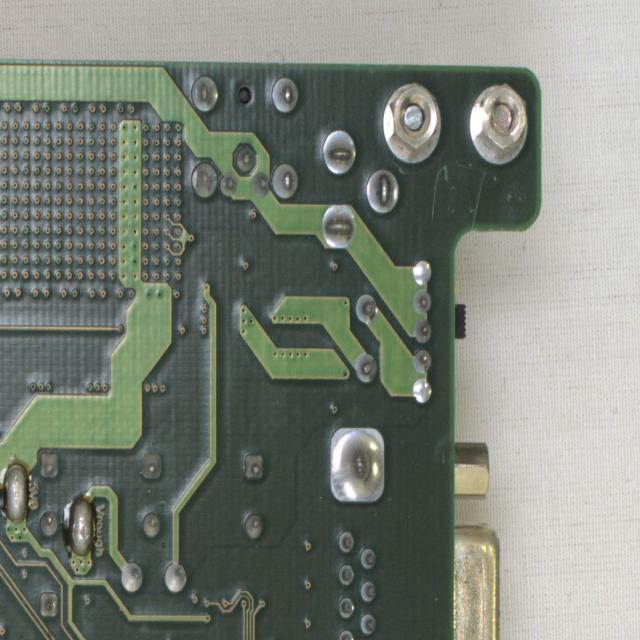capacitor: (3, 462, 28, 524), (68, 498, 94, 556)
connector: (439, 433, 503, 640)
pins: (185, 70, 303, 204), (350, 259, 440, 409), (137, 448, 267, 546), (318, 126, 400, 256), (324, 420, 389, 511), (330, 525, 381, 640), (119, 560, 191, 596), (38, 447, 61, 542), (35, 587, 58, 640)
